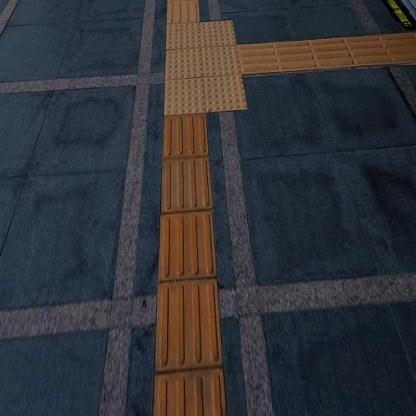podotacti: (150, 120, 230, 416), (154, 6, 268, 140), (243, 29, 415, 76)
